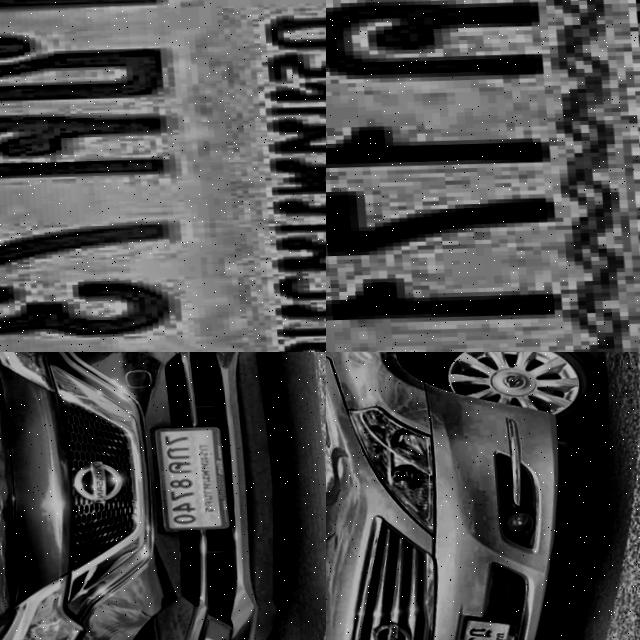license-plate: (0, 0, 326, 352), (326, 0, 640, 352), (148, 424, 230, 531), (429, 609, 521, 640)
